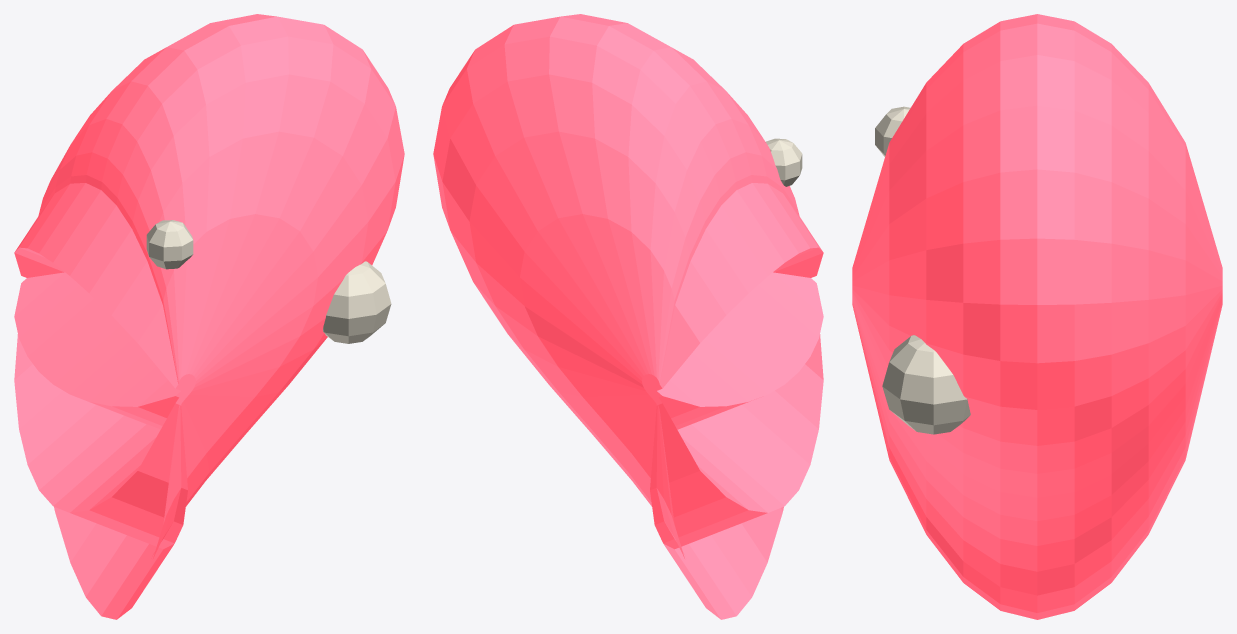
The model's file is pickups-and-collectibles-heart-pickup-half-47977ec4.glb.
3 views of the same model, side by side, from view 1: azimuth 30°, elevation 25°; view 2: azimuth 150°, elevation 25°; view 3: azimuth 270°, elevation 25° (orthographic). The views are drawn at different scales.
Visible parts, largest first — view 1: body/ruby, body/bone; view 2: body/ruby, body/bone; view 3: body/ruby, body/bone.
Part boxes in pixels (x1=…): body/ruby: x1=14, y1=14, x2=404, y2=619; body/bone: x1=146, y1=220, x2=391, y2=343; body/ruby: x1=433, y1=14, x2=823, y2=619; body/bone: x1=766, y1=138, x2=802, y2=186; body/ruby: x1=852, y1=14, x2=1222, y2=619; body/bone: x1=875, y1=106, x2=970, y2=434.
Size of the model in its own units: 0.219 by 0.34 by 0.17.
